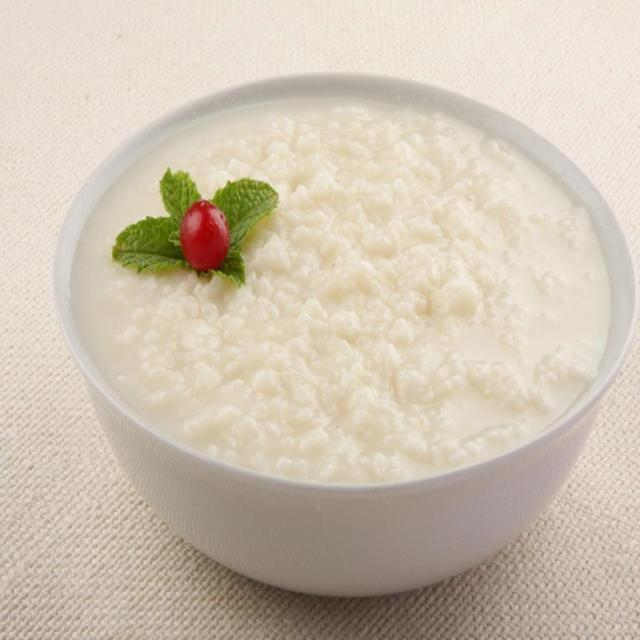roz blabn: (66, 92, 622, 528)
